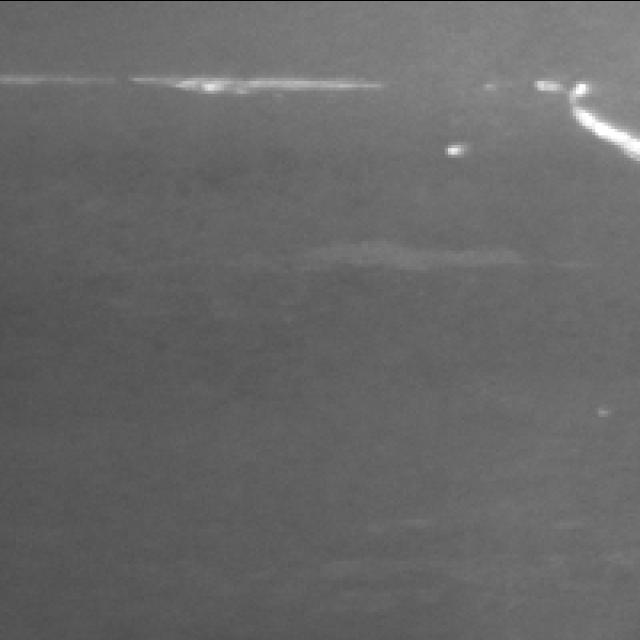scratches: (0, 66, 394, 96), (571, 80, 639, 162)
